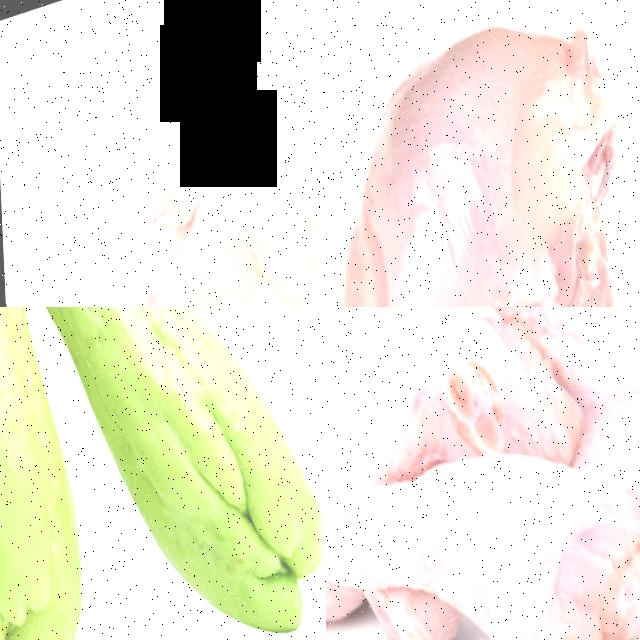chayote: (0, 307, 326, 640), (0, 307, 195, 640)
chicken thigh: (326, 0, 640, 307), (326, 360, 640, 640)
chicken wing: (0, 0, 326, 307)
